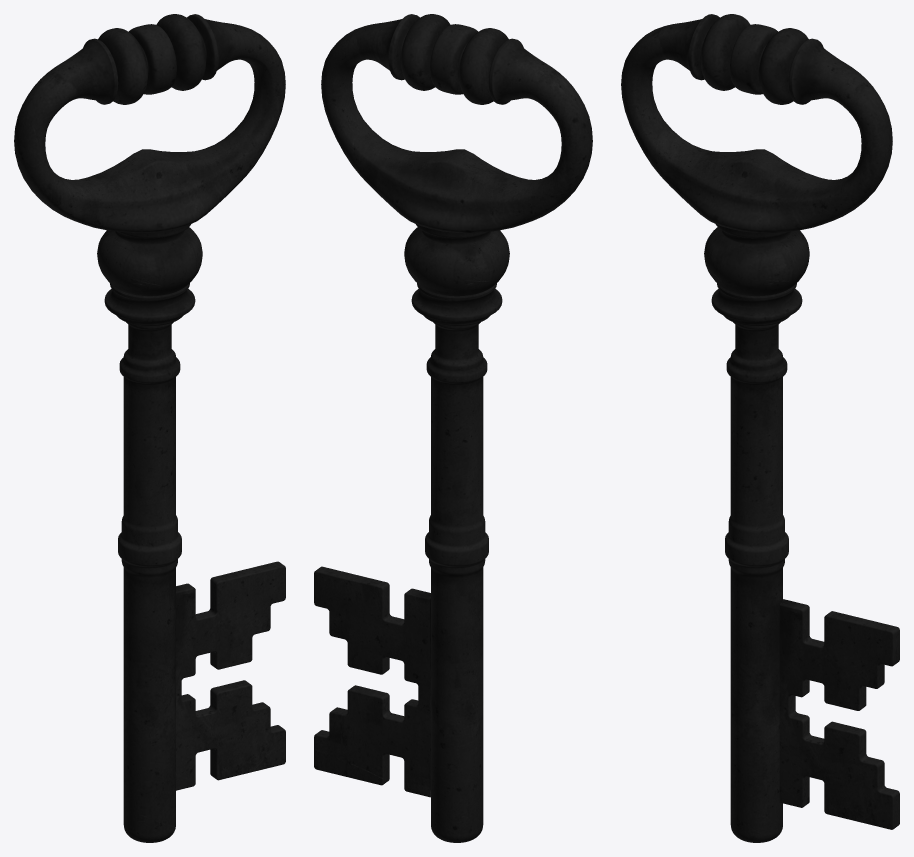
Rendered from key.glb.
3 renders of one model, left to right at view 1: azimuth 30°, elevation 25°; view 2: azimuth 150°, elevation 25°; view 3: azimuth 330°, elevation 25°, orthographic.
Parts seen in each view (by area): view 1: Object_2; view 2: Object_2; view 3: Object_2.
Boxes of the visible parts, bbox=[...] form: Object_2: bbox=[14, 14, 285, 842]; Object_2: bbox=[314, 14, 592, 842]; Object_2: bbox=[621, 14, 899, 842].
Size of the model in its own units: 89.2 by 257 by 30.97.
Materials: 1 (1 with a texture image).
